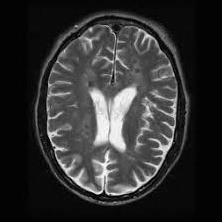Normal_Brain: (2, 1, 222, 221)
